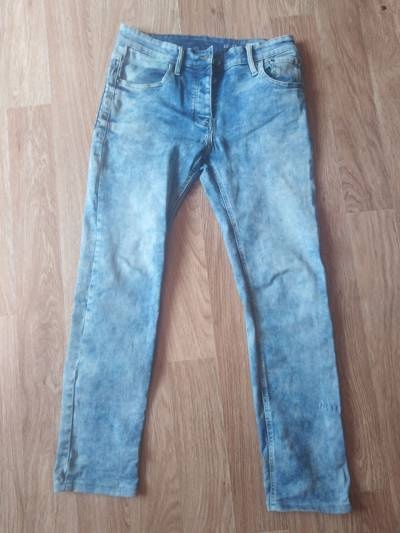Pants: (38, 24, 365, 515)
